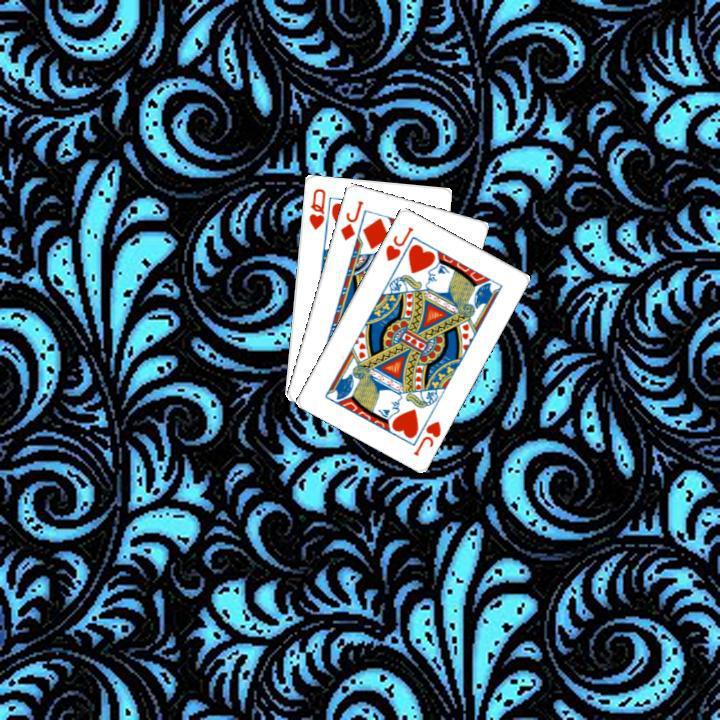J: (409, 416, 443, 458), (381, 222, 415, 263), (336, 196, 365, 242)
Q: (304, 183, 327, 231)
